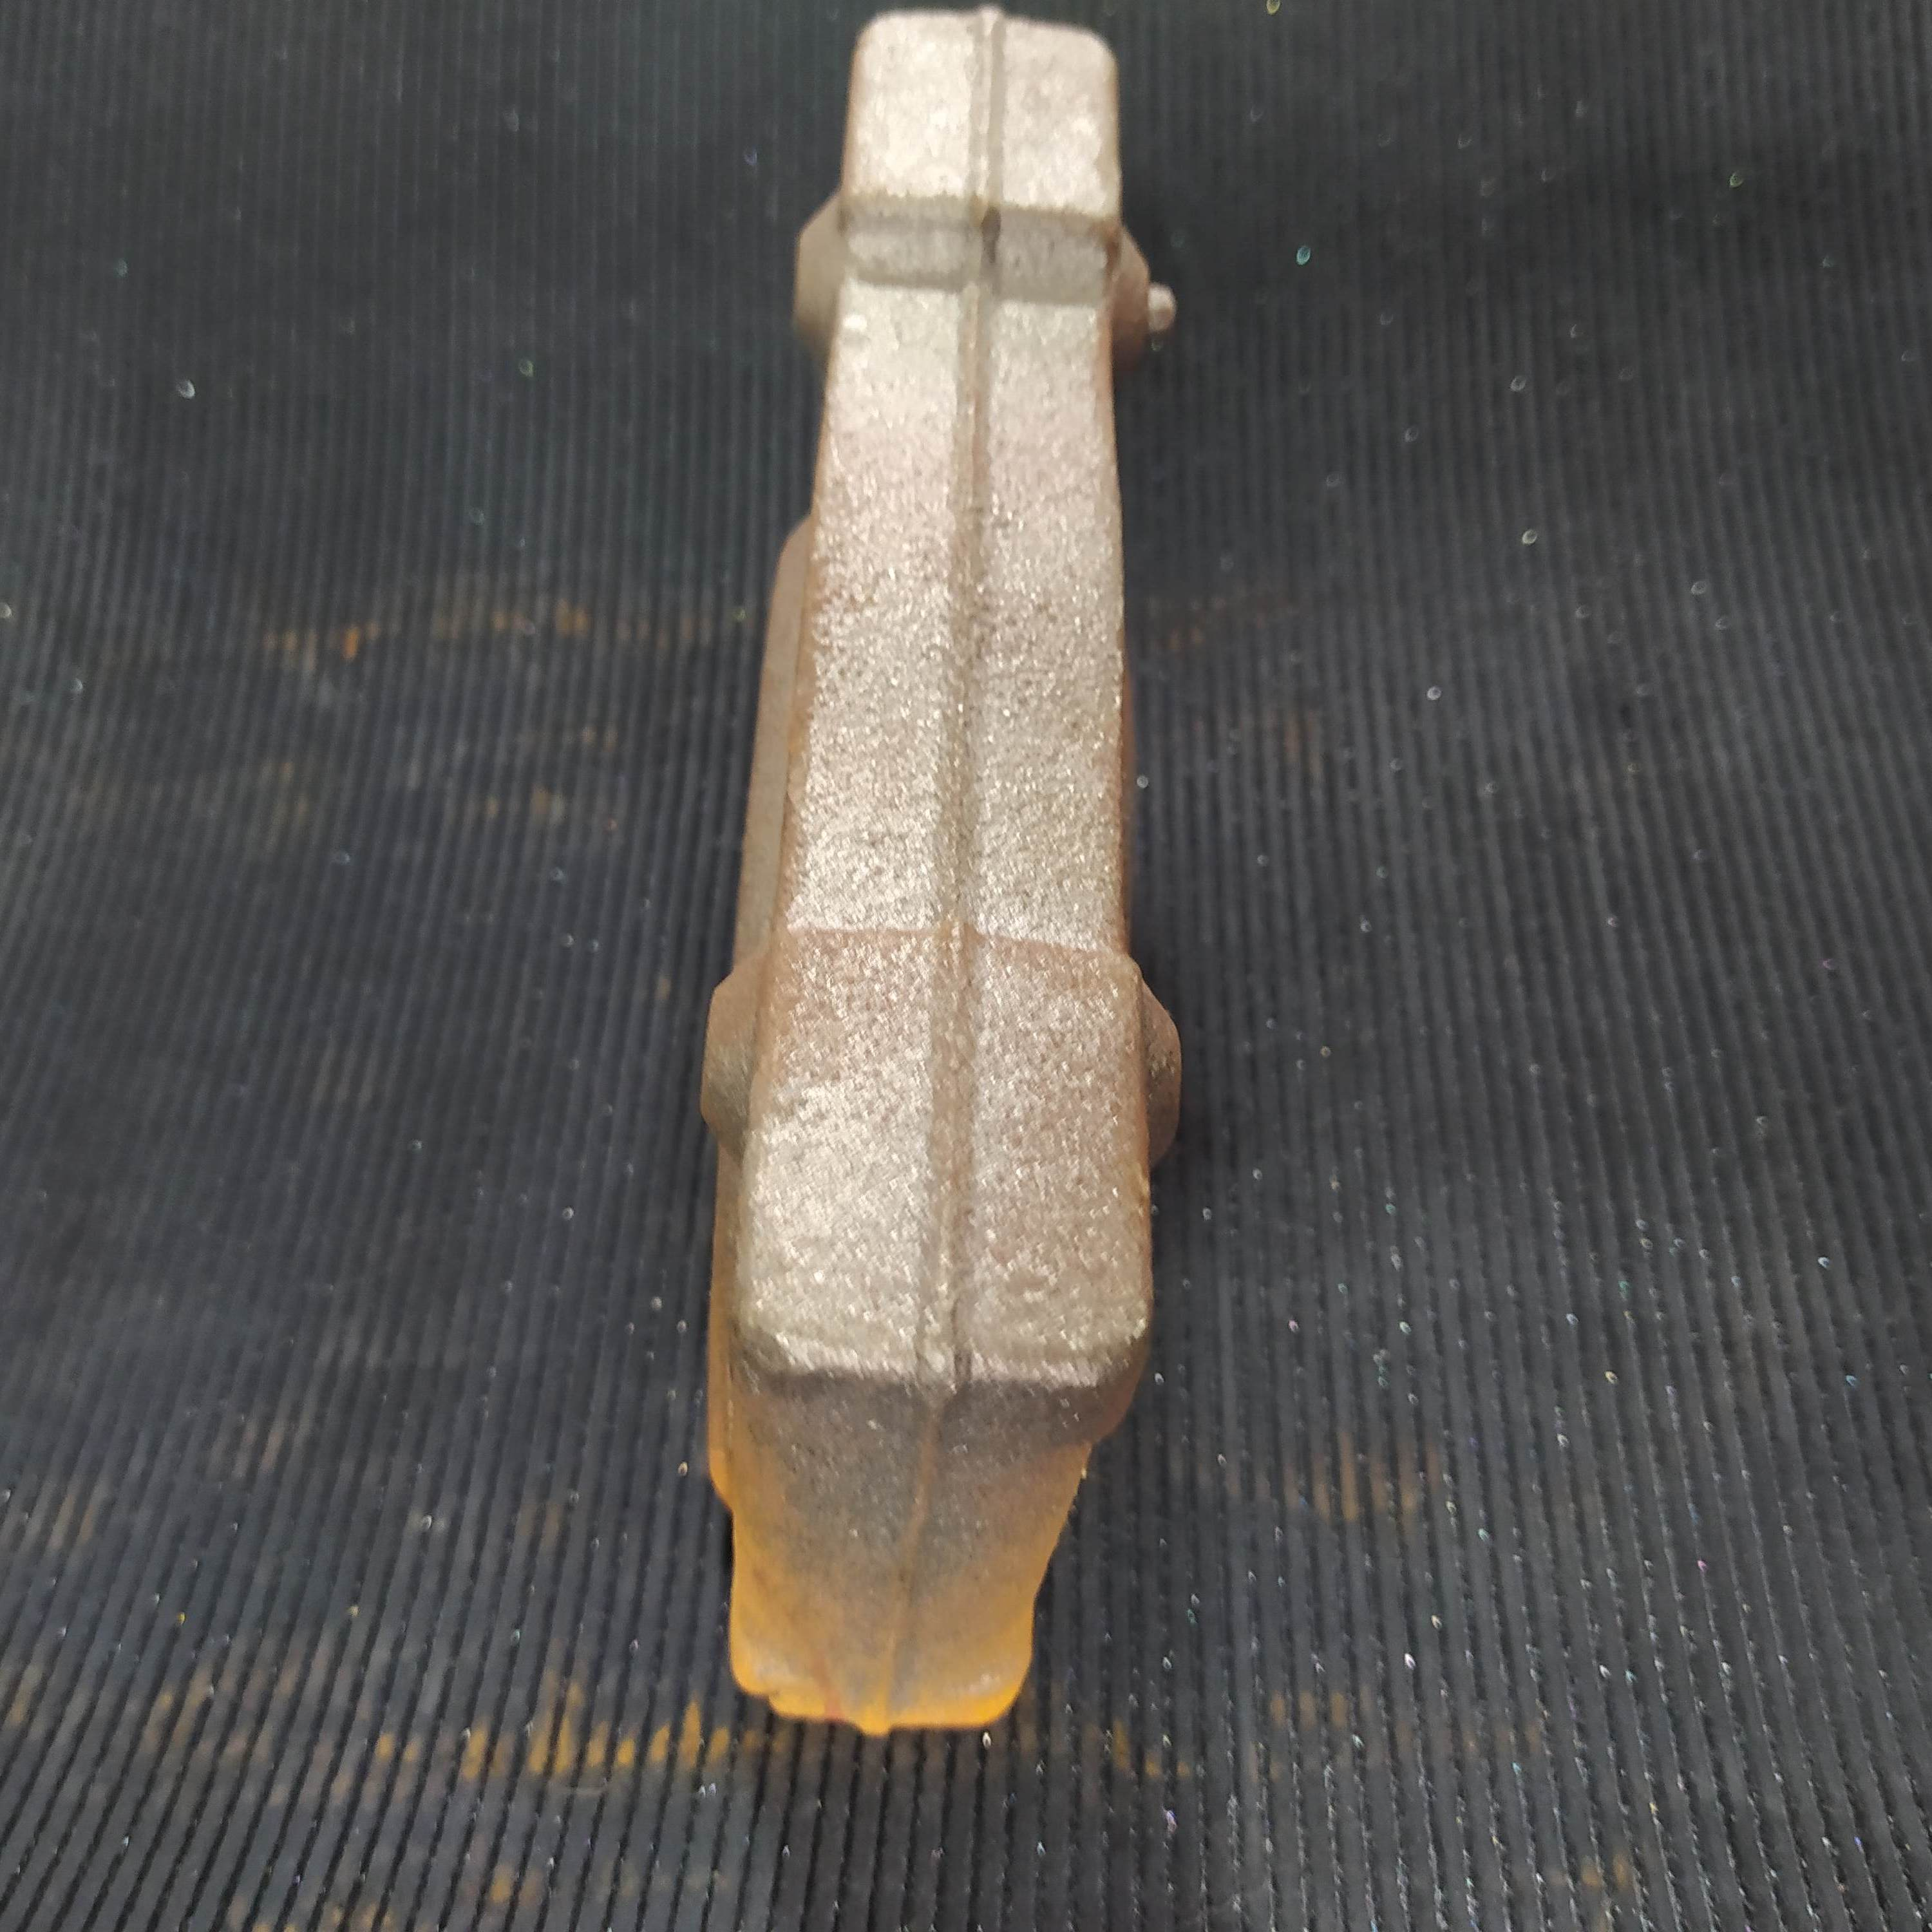rechupe: (741, 1686, 796, 1716)
